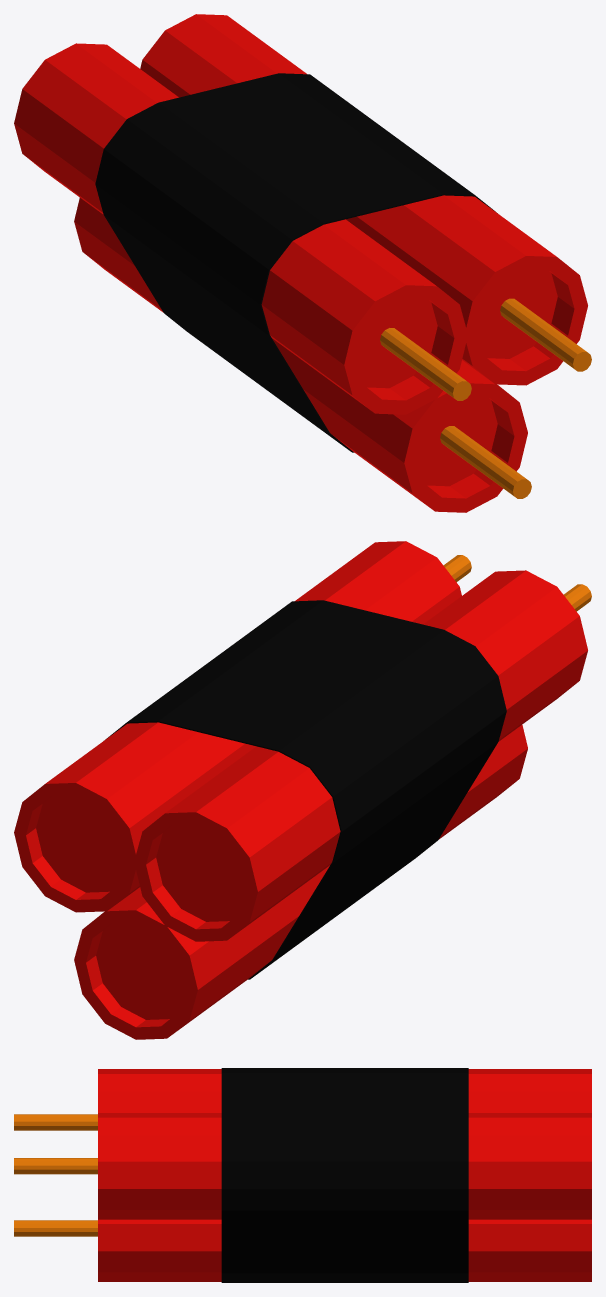
The model's file is dynamite1.fbx.
3 renders of one model, top to bottom at view 1: azimuth 30°, elevation 25°; view 2: azimuth 150°, elevation 25°; view 3: azimuth 270°, elevation 25°, orthographic. The views are drawn at different scales.
Parts seen in each view (by area): view 1: Cylinder, Cylinder.001; view 2: Cylinder, Cylinder.001; view 3: Cylinder, Cylinder.001.
Part boxes in pixels (x1,y1,x2,y2): Cylinder: [14, 14, 591, 512]; Cylinder.001: [95, 73, 497, 452]; Cylinder: [14, 541, 591, 1039]; Cylinder.001: [105, 600, 506, 979]; Cylinder: [14, 1069, 591, 1281]; Cylinder.001: [221, 1068, 468, 1282].
Size of the model in its own units: 86.18 by 81.82 by 234.
